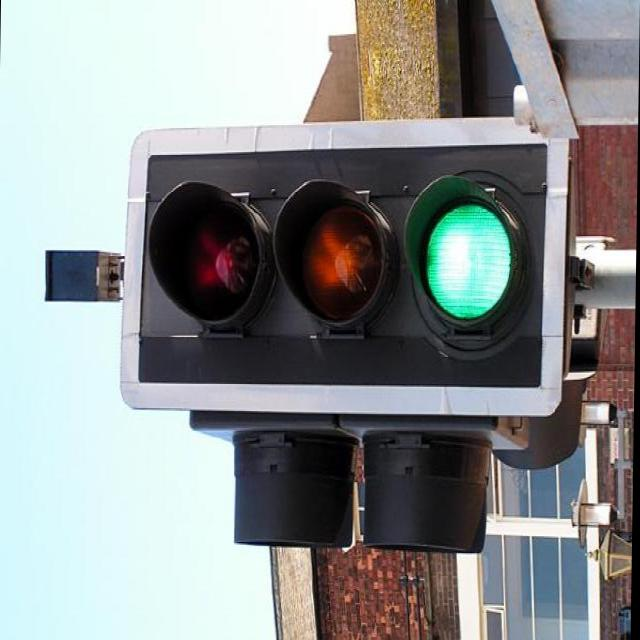green light: (146, 158, 536, 372)
